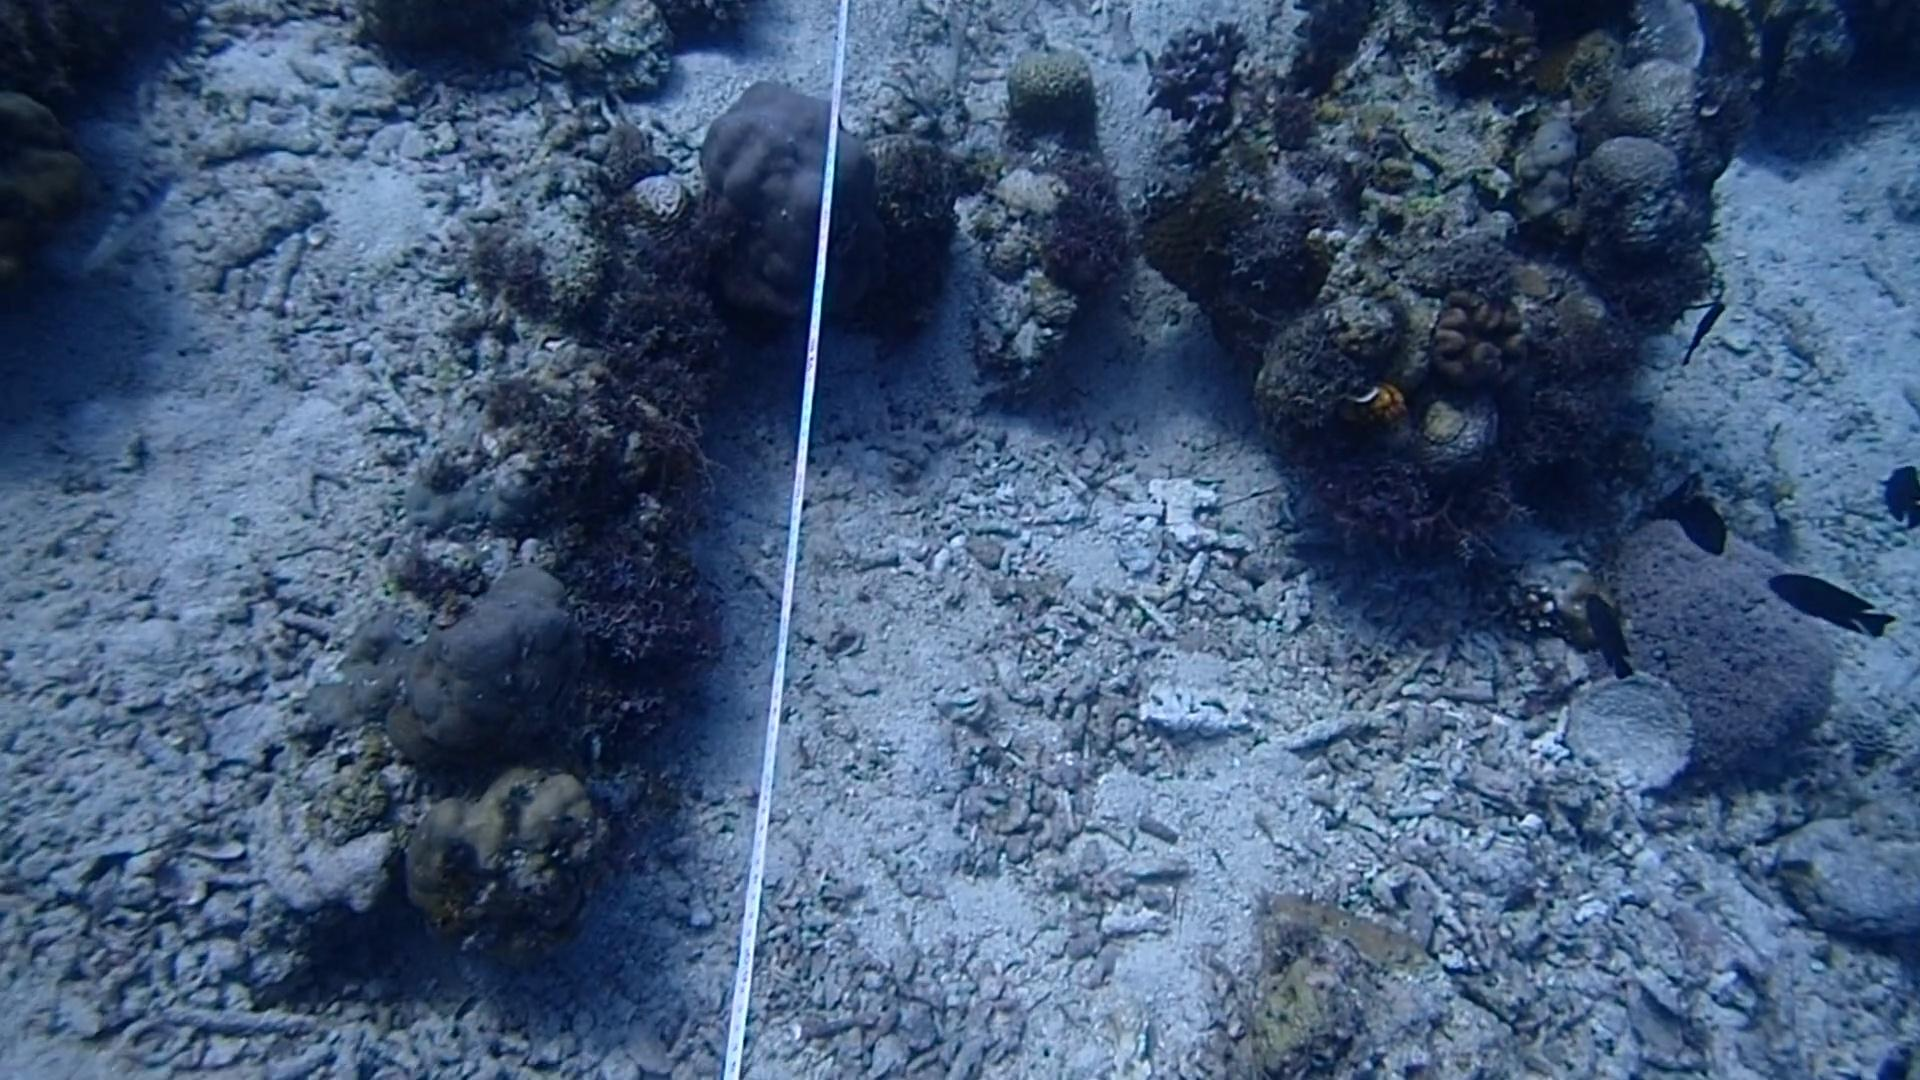Dark Fish: (1755, 564, 1902, 646), (1640, 472, 1739, 559), (1576, 582, 1642, 684), (1669, 289, 1735, 371), (1746, 5, 1793, 117), (1874, 454, 1920, 537)
Light Fish w Back Stripes: (74, 156, 193, 272)
